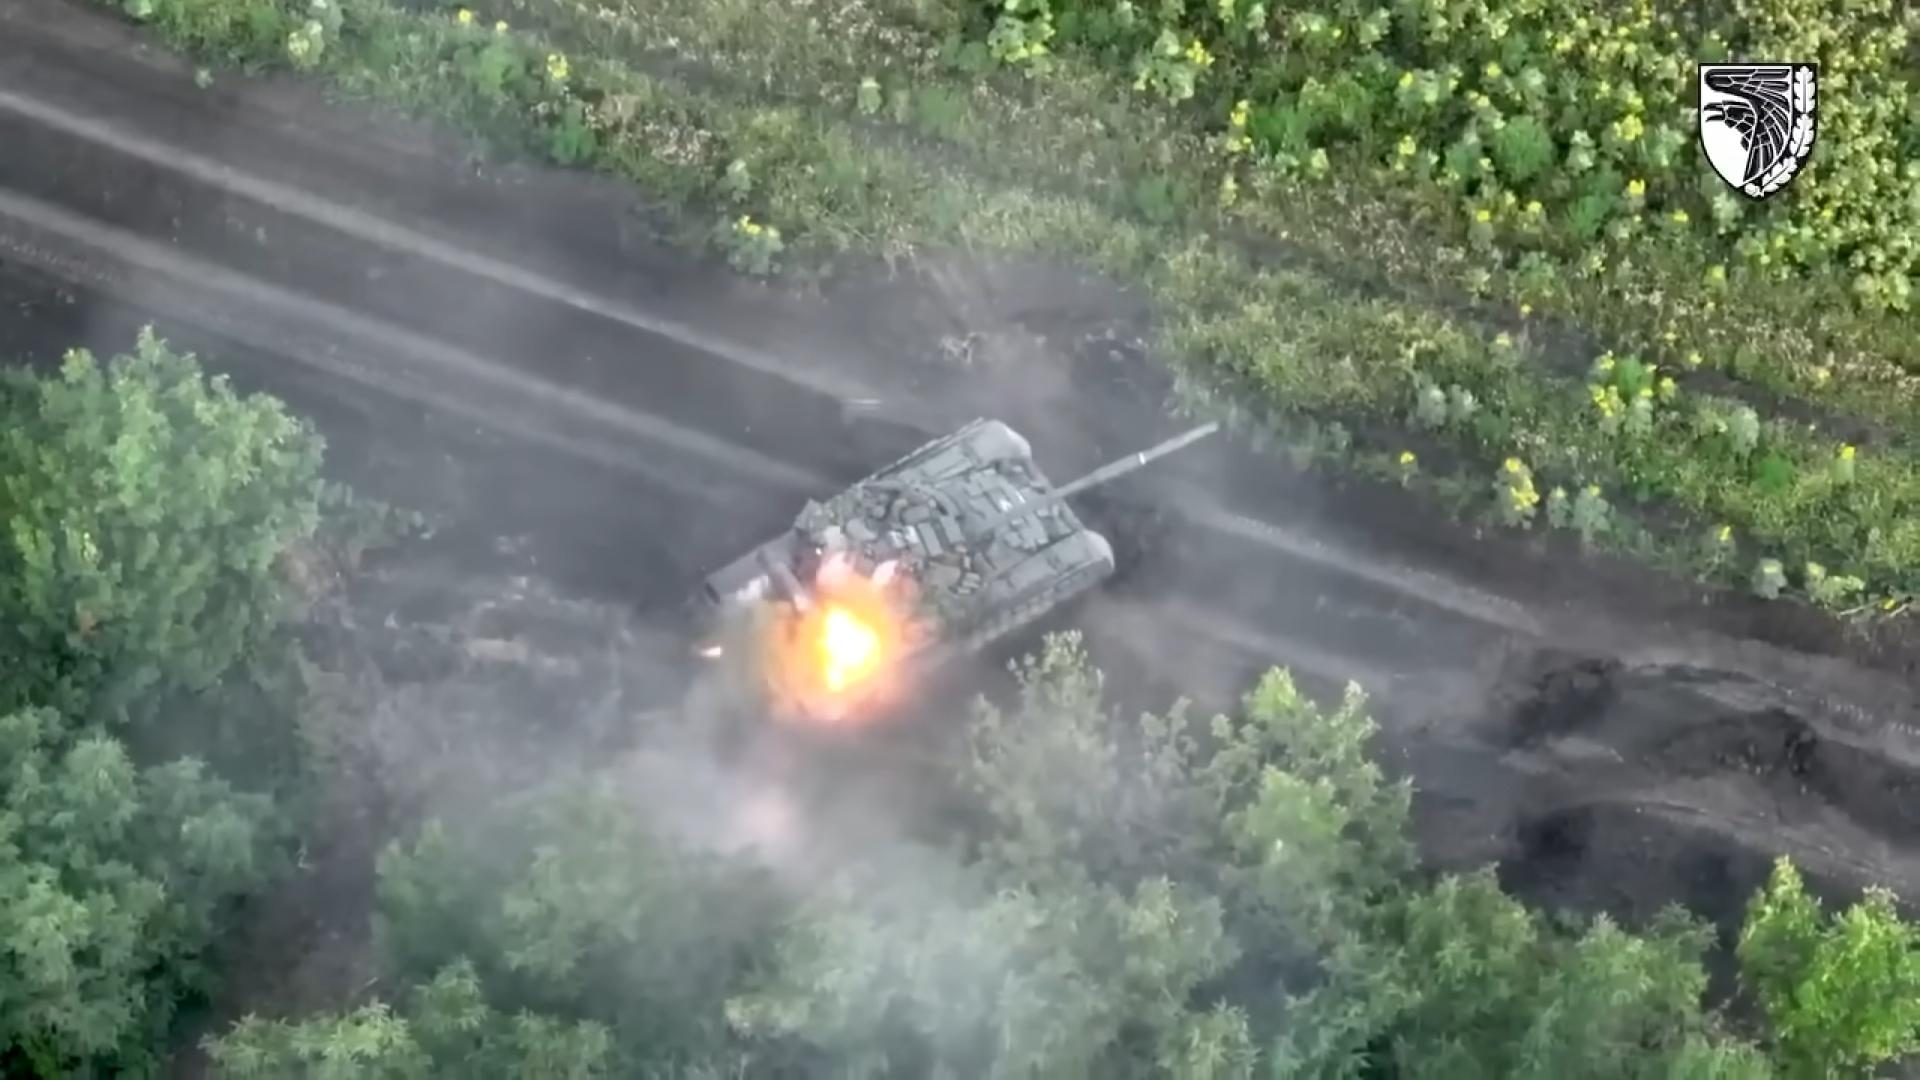tank: (699, 417, 1221, 732)
